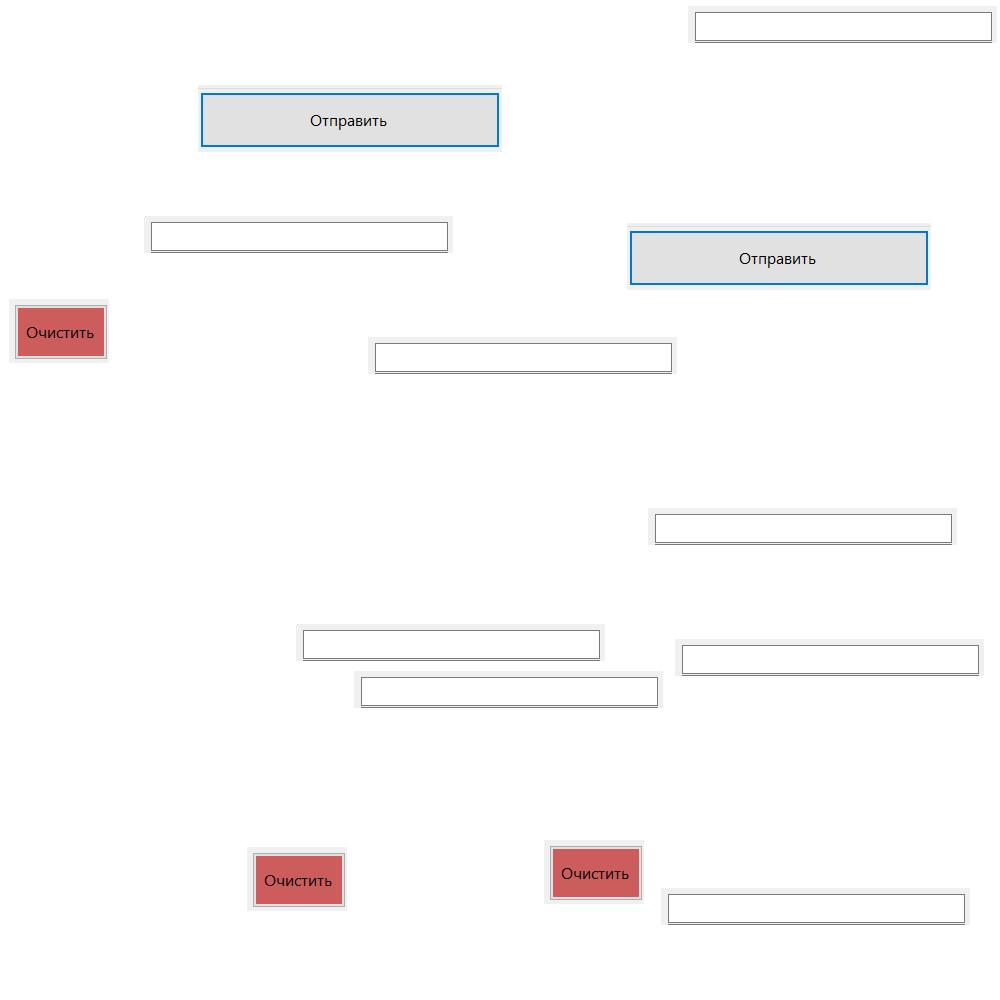Button: (198, 85, 502, 152), (627, 223, 931, 290), (247, 847, 347, 911), (9, 299, 109, 363), (544, 840, 644, 904)
EditText-: (296, 624, 605, 661), (144, 216, 453, 253), (368, 337, 677, 374), (688, 6, 997, 43), (661, 888, 970, 925), (675, 639, 984, 676), (648, 508, 957, 545), (354, 671, 663, 708)
